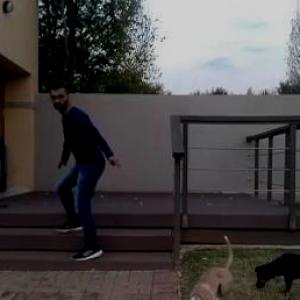land: (44, 78, 125, 257)
